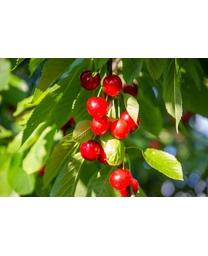cherry: (110, 168, 132, 191), (85, 95, 109, 116), (102, 74, 123, 97), (110, 118, 130, 141), (121, 111, 141, 133), (80, 140, 102, 160), (91, 114, 110, 136), (80, 71, 100, 90)
